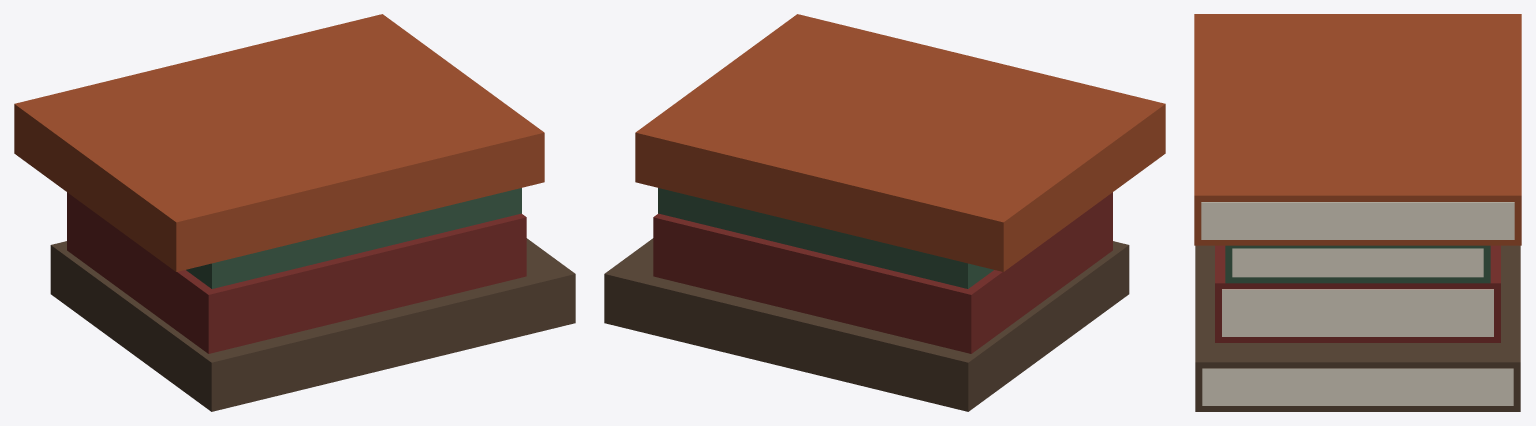
The model's file is FET-BKS-std.glb.
The picture shows the model from 3 angles, left to right: view 1: azimuth 30°, elevation 25°; view 2: azimuth 150°, elevation 25°; view 3: azimuth 270°, elevation 25°; orthographic projection.
Visible parts, largest first — view 1: FET-BKS-std; view 2: FET-BKS-std; view 3: FET-BKS-std.
Boxes of the visible parts, <box> form: FET-BKS-std: <box>14,14,575,411</box>; FET-BKS-std: <box>604,14,1165,411</box>; FET-BKS-std: <box>1194,14,1521,411</box>.
Bounding box in the file's own units: 0.2682 × 0.1271 × 0.1879.
